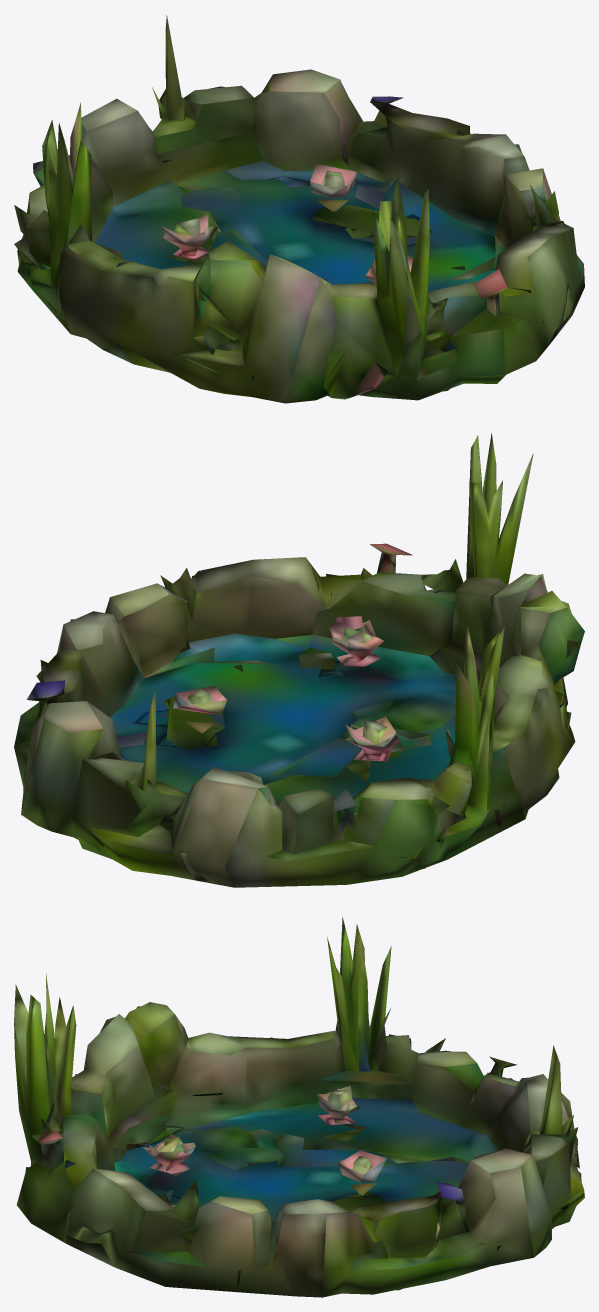
The model's file is pond.glb.
The picture shows the model from 3 angles, top to bottom: view 1: azimuth 30°, elevation 25°; view 2: azimuth 150°, elevation 25°; view 3: azimuth 270°, elevation 25°; orthographic projection. The views are drawn at different scales.
Size of the model in its own units: 0.8382 by 0.3947 by 0.9898.
Materials: 1 (1 with a texture image).
